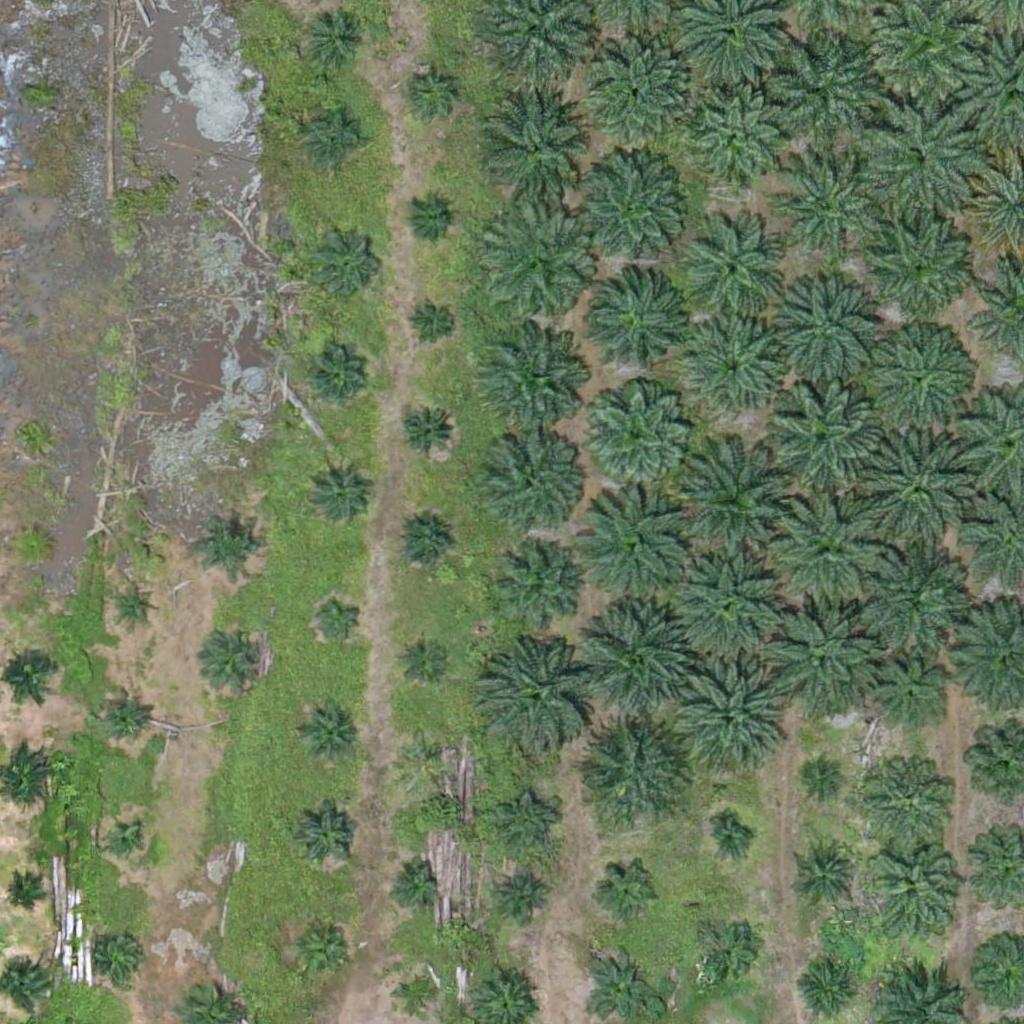Kelapa_Sawit: (676, 440, 801, 566), (474, 634, 599, 760), (671, 548, 784, 662), (581, 493, 694, 607), (579, 378, 692, 492), (483, 210, 596, 324), (862, 433, 975, 546), (848, 534, 961, 647), (669, 657, 782, 770), (582, 599, 695, 712), (573, 714, 686, 827), (481, 86, 594, 199), (764, 34, 877, 147), (864, 105, 977, 218), (860, 210, 973, 323), (573, 155, 686, 268), (762, 594, 874, 708), (476, 329, 588, 443), (773, 492, 885, 605), (772, 150, 884, 263), (768, 382, 880, 495), (591, 38, 691, 139), (688, 92, 788, 193), (870, 330, 970, 431), (777, 275, 877, 376), (685, 224, 785, 325), (482, 427, 582, 528), (686, 317, 786, 417), (590, 271, 690, 371), (862, 755, 950, 843), (870, 849, 958, 937), (492, 544, 580, 632), (868, 658, 943, 734), (310, 223, 385, 298), (583, 948, 658, 1023), (208, 627, 271, 690), (197, 511, 260, 574), (306, 350, 369, 413), (295, 699, 358, 762), (295, 804, 358, 867), (691, 918, 754, 981), (288, 918, 351, 981), (396, 400, 459, 463), (306, 10, 368, 73), (305, 107, 367, 170), (307, 461, 369, 524), (495, 791, 557, 854), (599, 860, 661, 923), (393, 512, 455, 575), (408, 67, 458, 118), (501, 869, 551, 920), (399, 629, 449, 680), (398, 726, 448, 777), (388, 855, 438, 906), (314, 591, 364, 642), (404, 191, 454, 242), (98, 930, 148, 980), (799, 848, 849, 898), (392, 971, 442, 1021), (100, 689, 150, 739), (408, 299, 458, 349), (807, 759, 845, 797), (117, 587, 155, 625), (107, 825, 145, 863), (14, 527, 52, 565), (712, 821, 749, 859), (2, 876, 39, 914)
